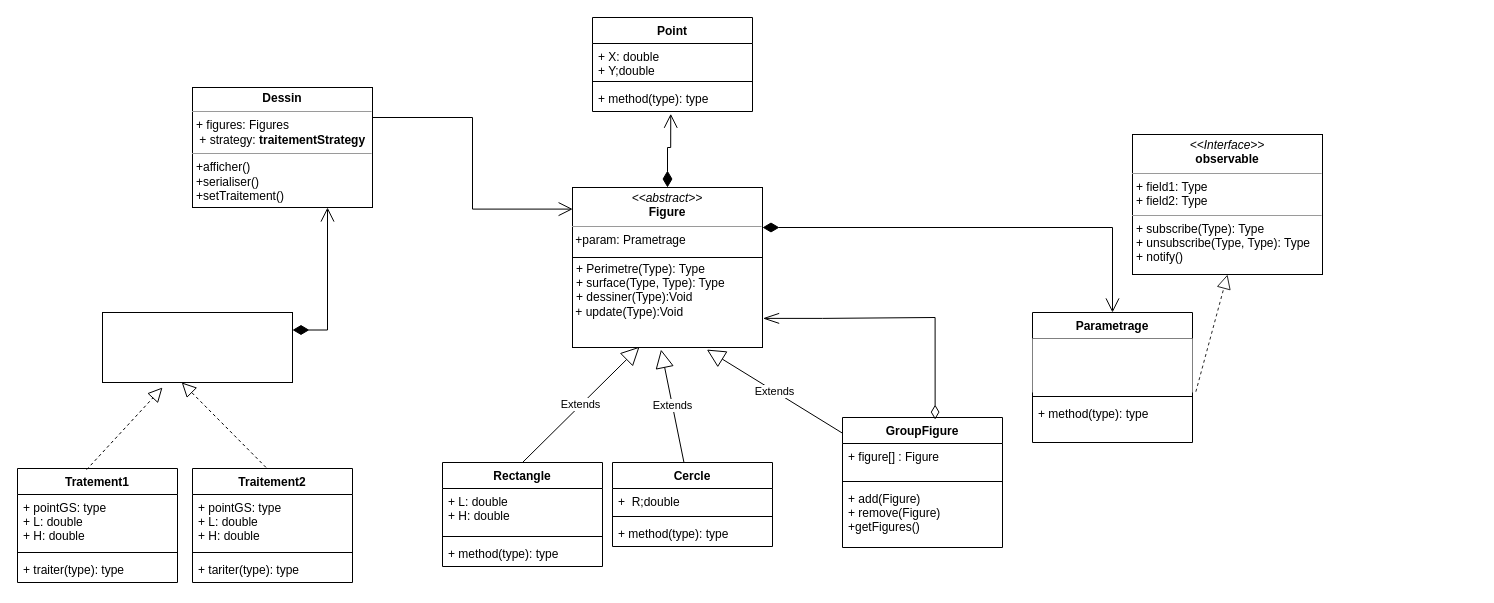
Image size: 1494x603. Some labels were removed from this diagram. The centre of each missing label's shape, as x and y in pixels:
+ epaisseurC: int + couleurC: int + couleurR: int: the point at 1112,365
<<Interface>> traitementStrategy + traiter(Type): Type: the point at 197,347
